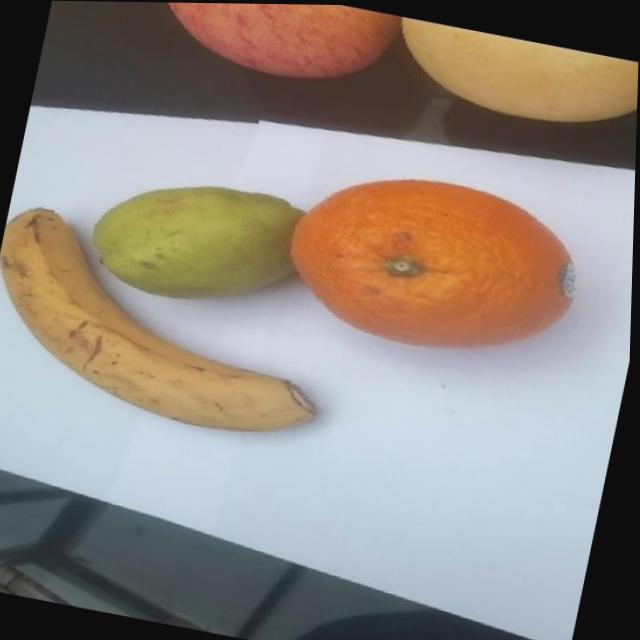Apple: (143, 2, 403, 95)
Banana: (0, 199, 350, 446)
Orange: (275, 152, 596, 371)
